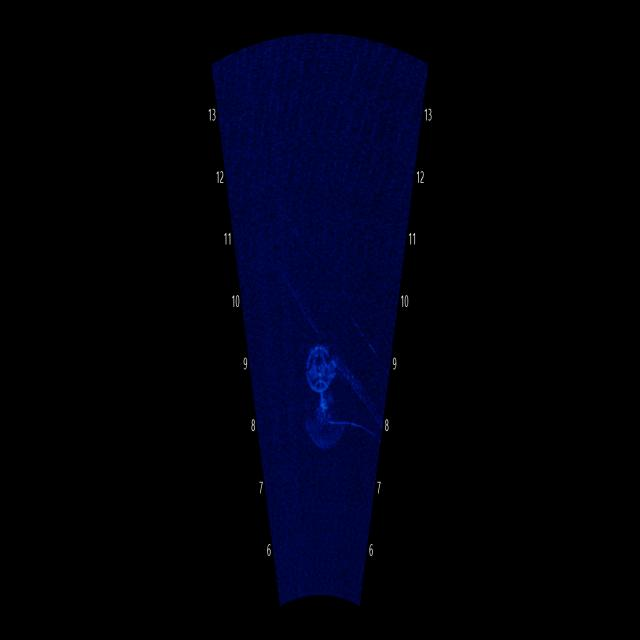circle: (300, 318, 348, 412)
